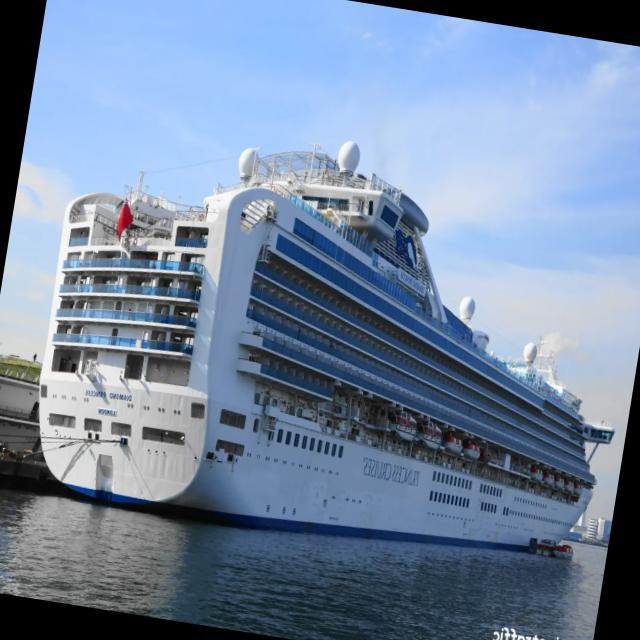Cruise: (35, 143, 614, 551)
